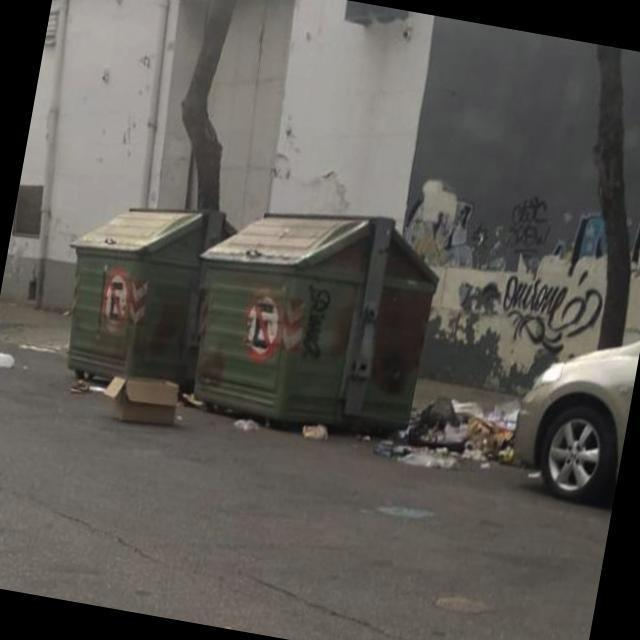garbage: (398, 375, 532, 504), (74, 358, 230, 461), (278, 407, 344, 452), (224, 404, 278, 440), (0, 320, 28, 376)
